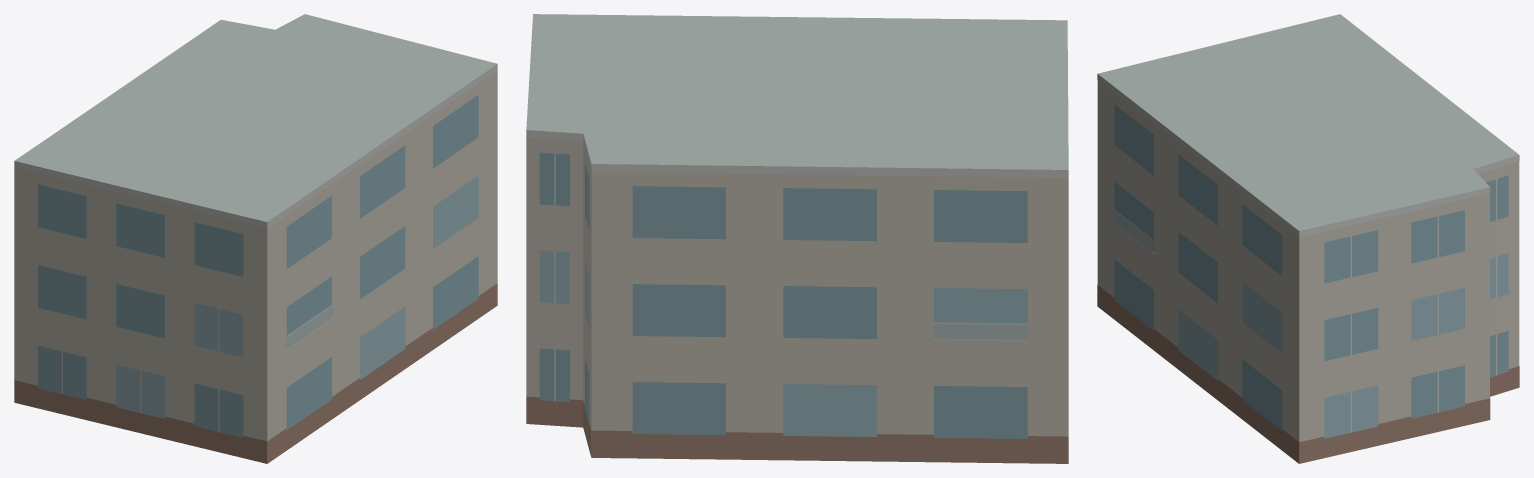
File: survey-upis-32490573.glb
The picture shows the model from 3 angles, left to right: view 1: azimuth 30°, elevation 25°; view 2: azimuth 150°, elevation 25°; view 3: azimuth 270°, elevation 25°; orthographic projection. The views are drawn at different scales.
Visible parts, largest first — view 1: survey-upis-32490573.tmp; view 2: survey-upis-32490573.tmp; view 3: survey-upis-32490573.tmp.
Part boxes in pixels (x1,y1,x2,y2): survey-upis-32490573.tmp: (14,14,497,463); survey-upis-32490573.tmp: (526,14,1068,463); survey-upis-32490573.tmp: (1097,14,1519,463).
Size of the model in its own units: 18.31 by 9.15 by 15.04.
